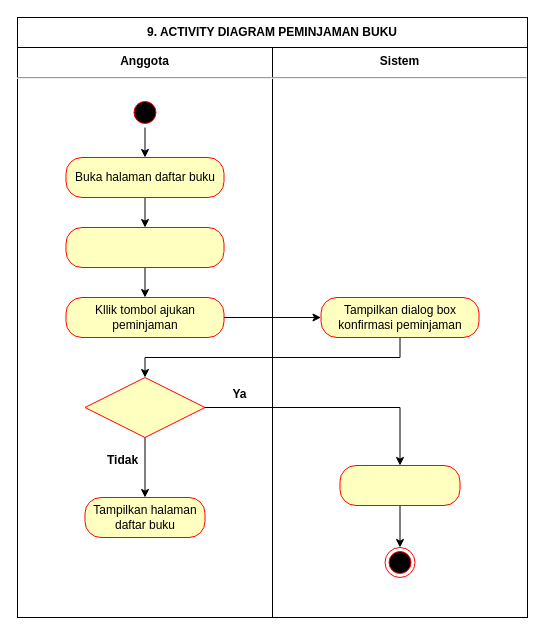
This 545x635 diagram has some shape labels left out. The centre of each missing label's shape, as x and y in pixels:
"Konfirmasi aksi" belongs at (144,407).
"Perbarui data di database" belongs at (399,485).
"Tentukan tanggal pengembalian" belongs at (144,247).
